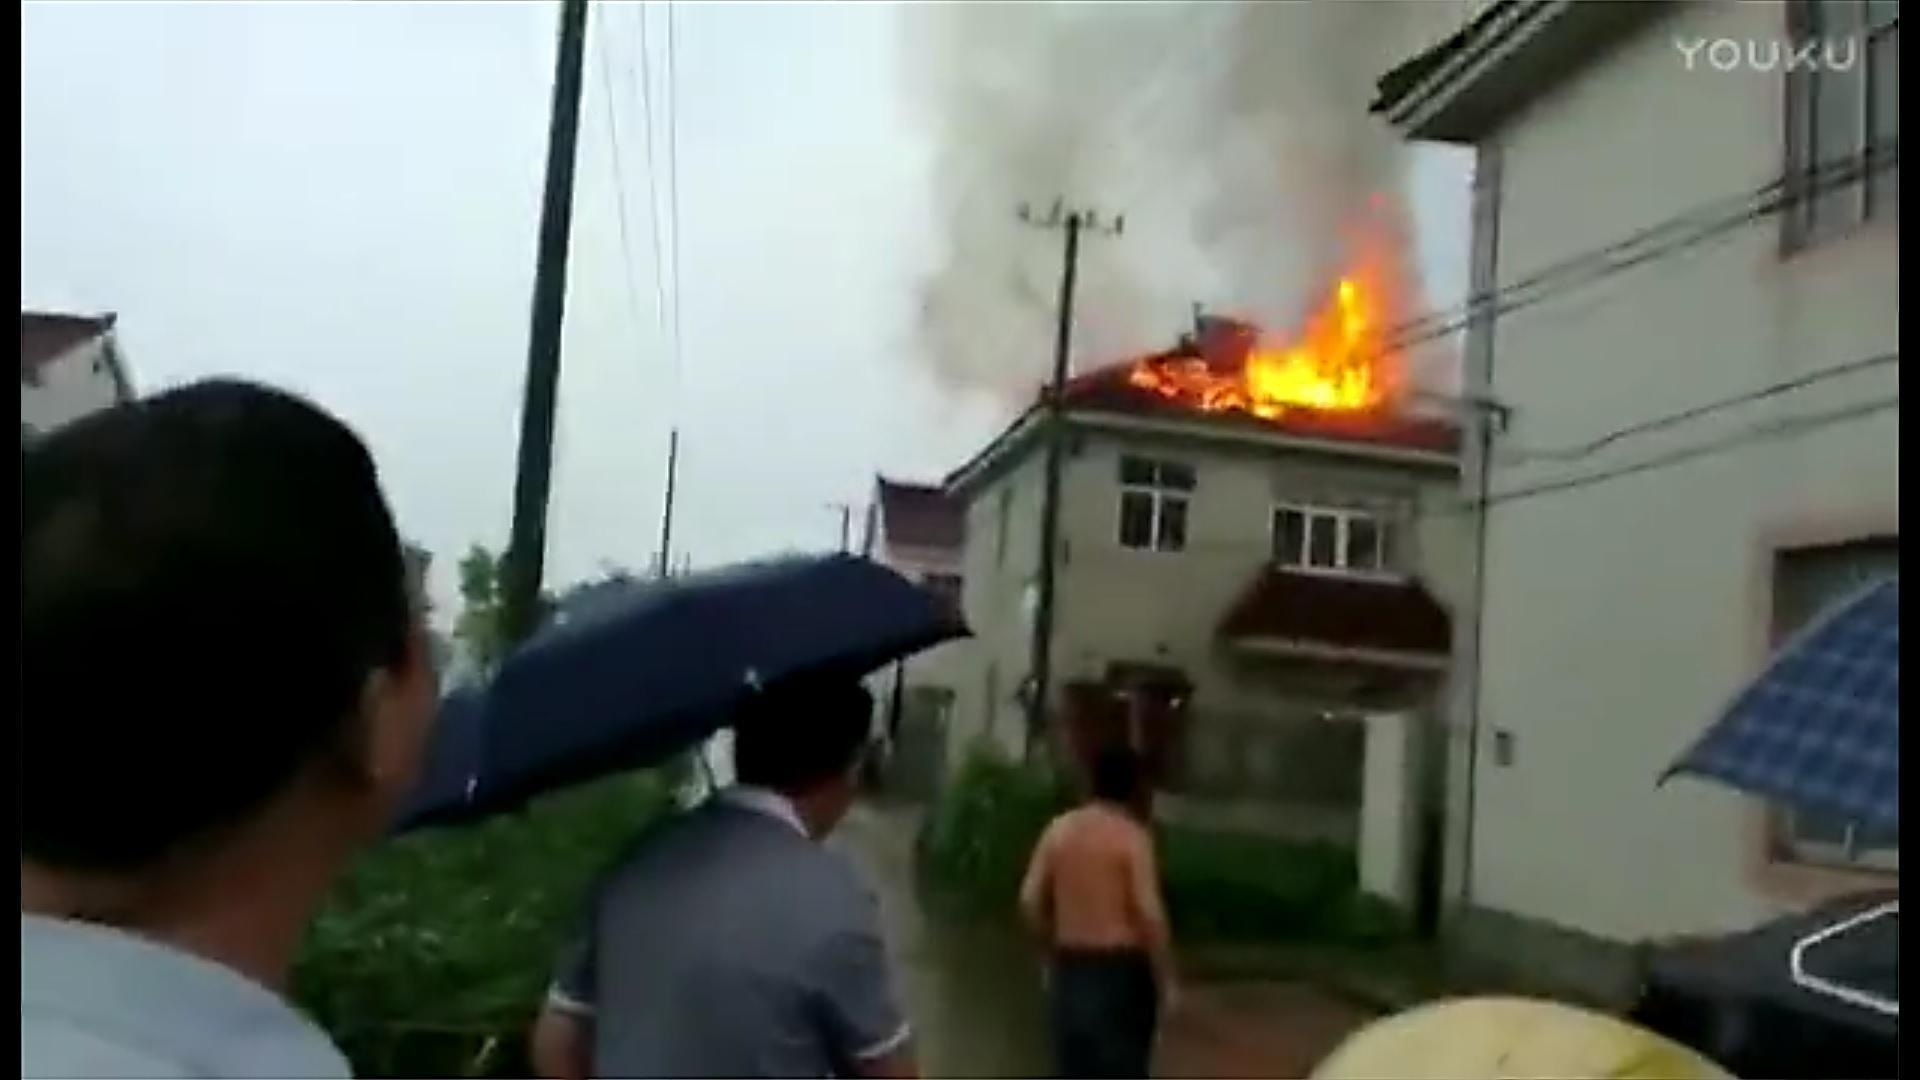fire: (1130, 255, 1399, 422)
